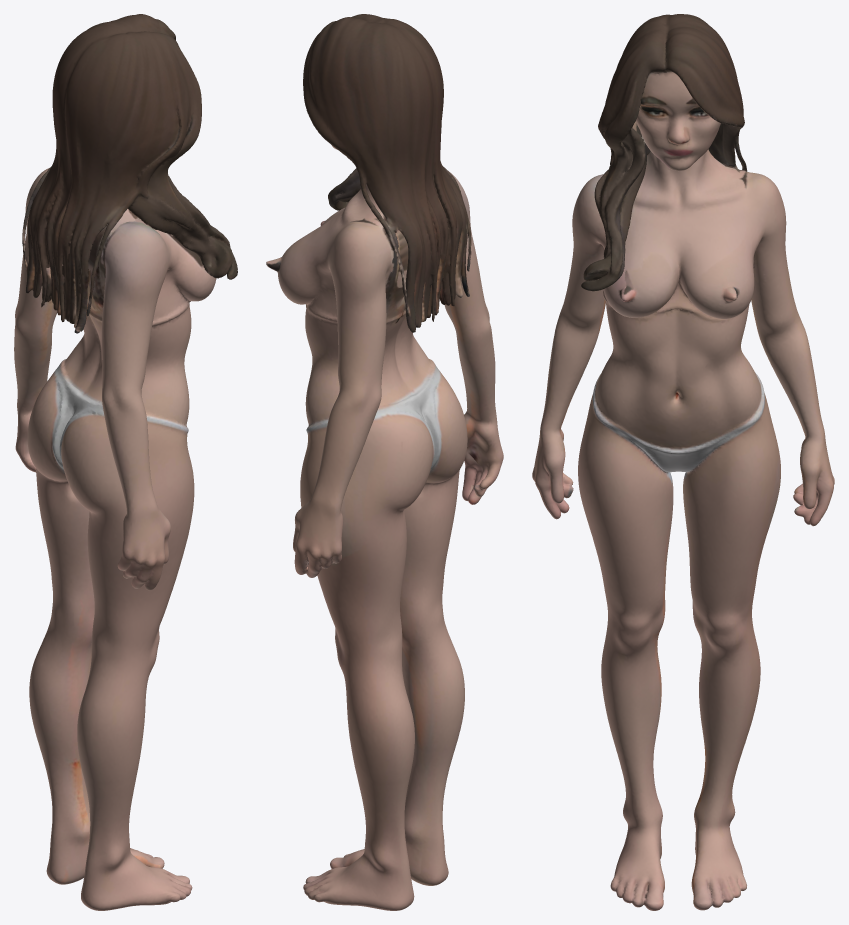
The model's file is femalesex.glb.
3 renders of one model, left to right at view 1: azimuth 30°, elevation 25°; view 2: azimuth 150°, elevation 25°; view 3: azimuth 270°, elevation 25°, orthographic.
Parts seen in each view (by area): view 1: tripo_node_336428f9-11bb-44ca-af6b-bf253f6952ae; view 2: tripo_node_336428f9-11bb-44ca-af6b-bf253f6952ae; view 3: tripo_node_336428f9-11bb-44ca-af6b-bf253f6952ae.
Boxes of the visible parts, x1,y1,x2,y2 form: tripo_node_336428f9-11bb-44ca-af6b-bf253f6952ae: [14, 14, 237, 910]; tripo_node_336428f9-11bb-44ca-af6b-bf253f6952ae: [266, 14, 503, 910]; tripo_node_336428f9-11bb-44ca-af6b-bf253f6952ae: [532, 14, 834, 910].
Size of the model in its own units: 0.1845 by 1 by 0.3169.
1 material, 1 textured.
